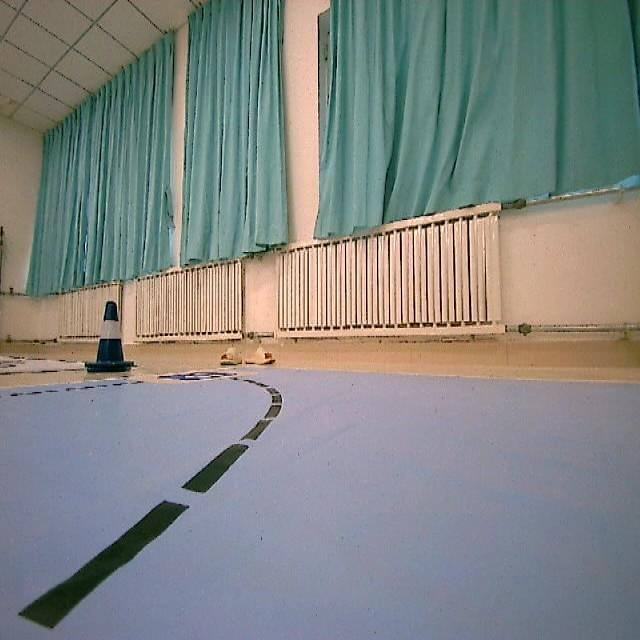obstacle: (81, 299, 135, 379)
